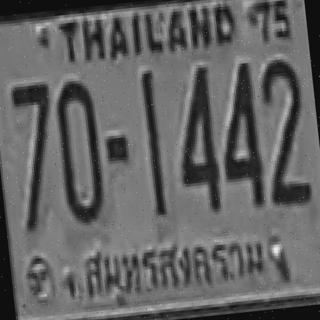N00: (53, 76, 105, 222)
N01: (139, 70, 165, 198)
N02: (256, 55, 310, 192), (258, 56, 308, 182)
N04: (169, 63, 222, 211), (212, 60, 264, 208)
N07: (8, 81, 60, 226), (8, 81, 57, 193)
P59: (74, 220, 274, 319)
